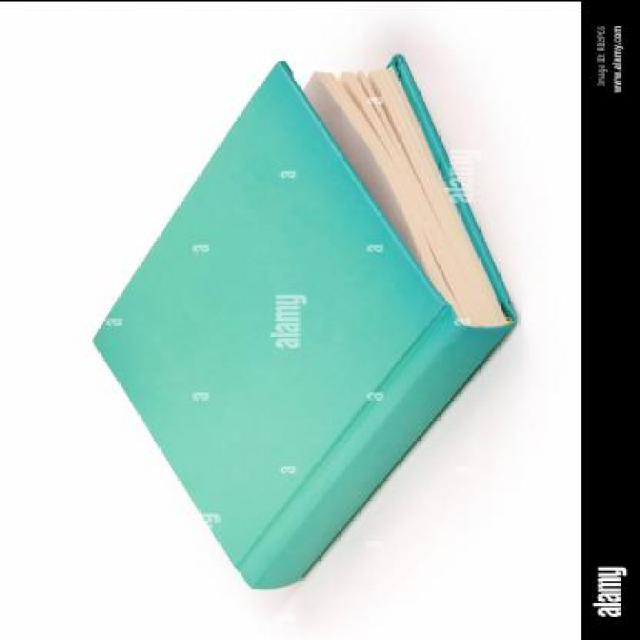book: (48, 41, 530, 598)
